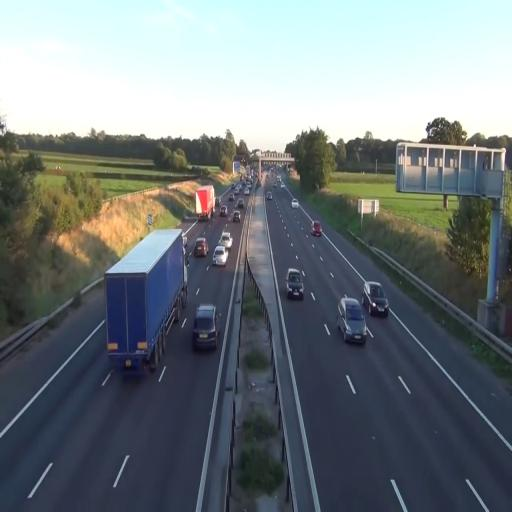vehicle: (104, 226, 188, 376), (104, 227, 188, 376), (105, 229, 188, 371), (337, 297, 369, 344), (337, 298, 367, 344), (192, 304, 220, 352), (193, 305, 220, 349), (363, 280, 389, 318), (362, 282, 388, 317), (195, 185, 216, 220), (195, 183, 215, 219), (196, 184, 215, 219), (285, 268, 305, 300), (212, 239, 232, 266), (286, 269, 303, 300), (212, 245, 229, 266), (213, 247, 228, 266), (194, 238, 208, 258), (194, 238, 208, 257), (219, 232, 232, 249), (311, 222, 321, 236), (312, 221, 321, 236), (232, 210, 241, 222), (220, 205, 228, 216), (292, 199, 299, 209), (215, 196, 222, 206), (228, 193, 236, 201), (237, 198, 243, 208), (245, 166, 250, 176), (183, 234, 187, 246), (267, 192, 272, 199), (234, 188, 239, 195), (244, 188, 249, 195), (277, 175, 281, 182), (250, 177, 254, 184), (242, 180, 245, 187), (248, 183, 251, 190), (231, 184, 235, 189), (240, 175, 243, 181), (273, 183, 277, 187), (281, 183, 284, 188)
